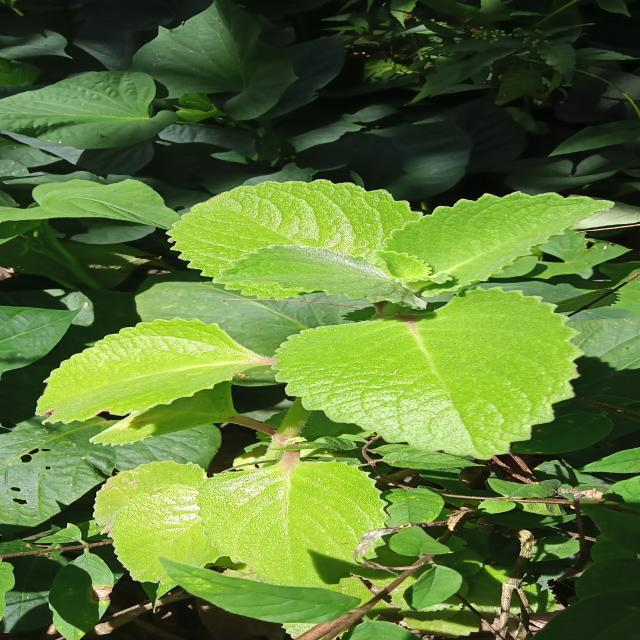Oregano: (272, 286, 596, 468), (155, 174, 619, 286)
